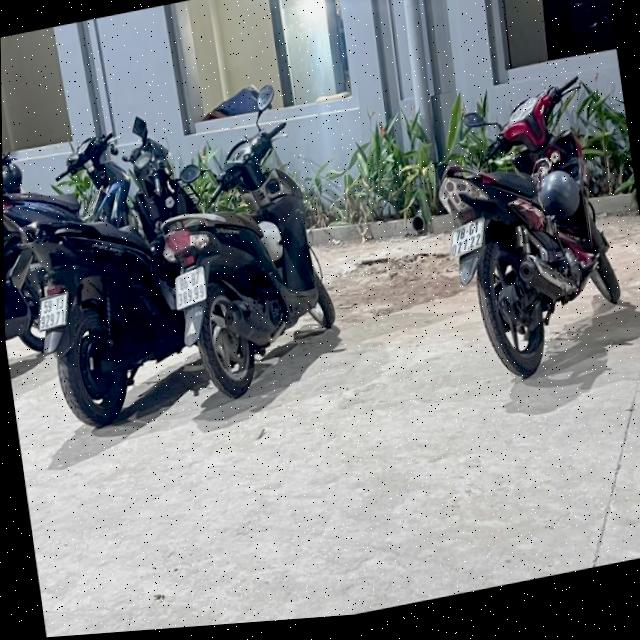motorcycle: (421, 59, 635, 407), (141, 69, 354, 414), (4, 94, 215, 441)
plate: (443, 213, 494, 265), (166, 260, 214, 312), (28, 288, 74, 336)
